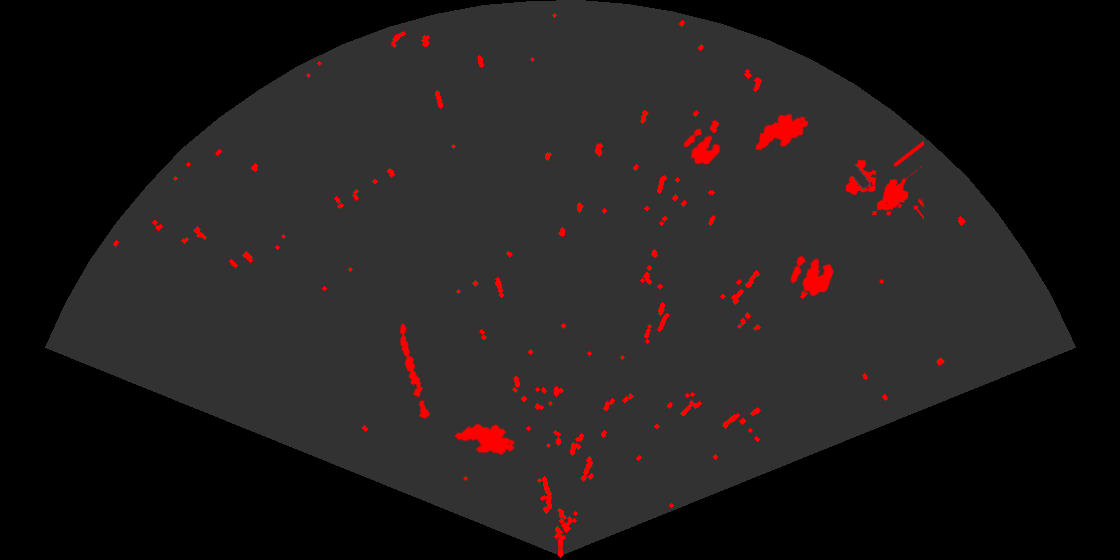AUV: (753, 112, 810, 152), (453, 422, 517, 457)
ball: (789, 253, 836, 298), (682, 127, 722, 166)
cage: (844, 139, 924, 221)
chain: (398, 322, 431, 421)
